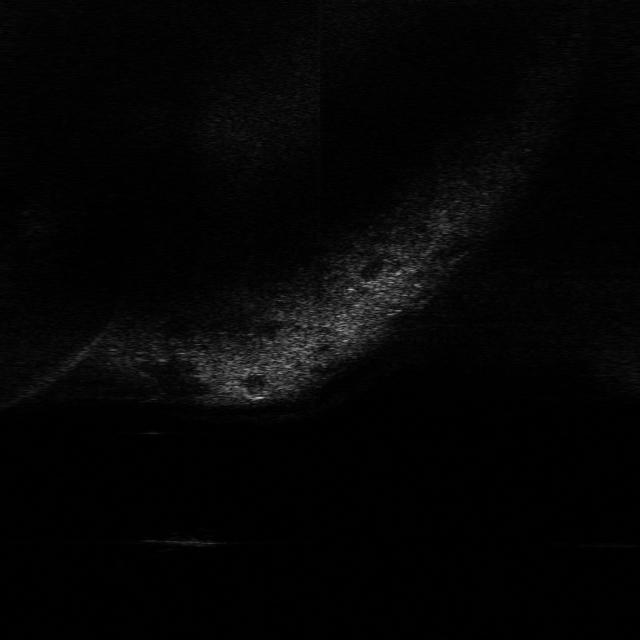cube: (142, 523, 222, 550)
